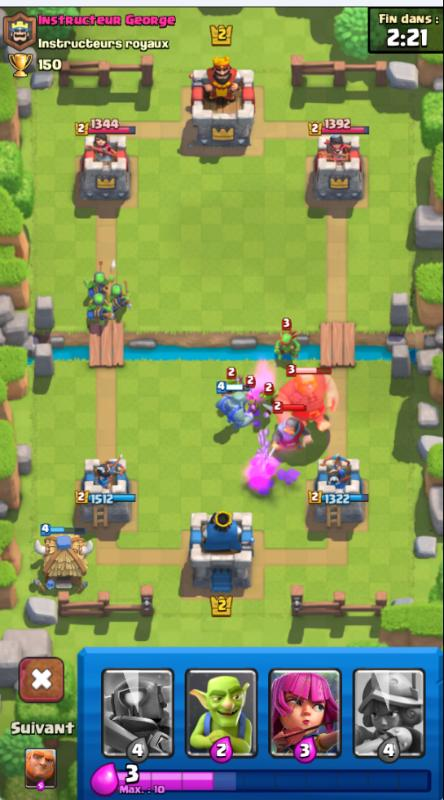chevalier: (268, 418, 312, 461)
geant: (276, 364, 340, 438)
gobelin: (259, 381, 281, 419), (241, 381, 259, 416), (221, 374, 239, 399)
gobelin_lances: (271, 324, 303, 363), (85, 290, 114, 331), (84, 269, 114, 302), (108, 282, 131, 318)
